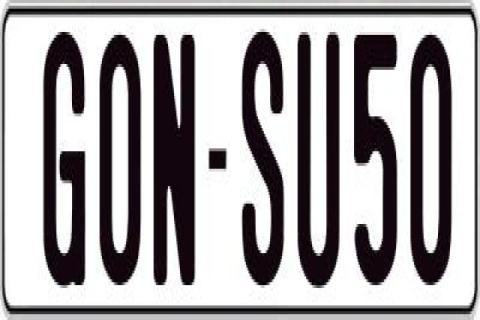0: (410, 29, 458, 294), (352, 35, 400, 285), (96, 35, 138, 288)
G: (42, 24, 92, 294)
N: (152, 29, 198, 297)
S: (239, 27, 285, 286)
U: (296, 26, 344, 288)
